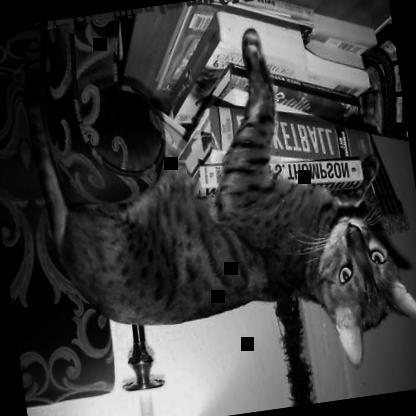cat: (19, 9, 415, 409)
